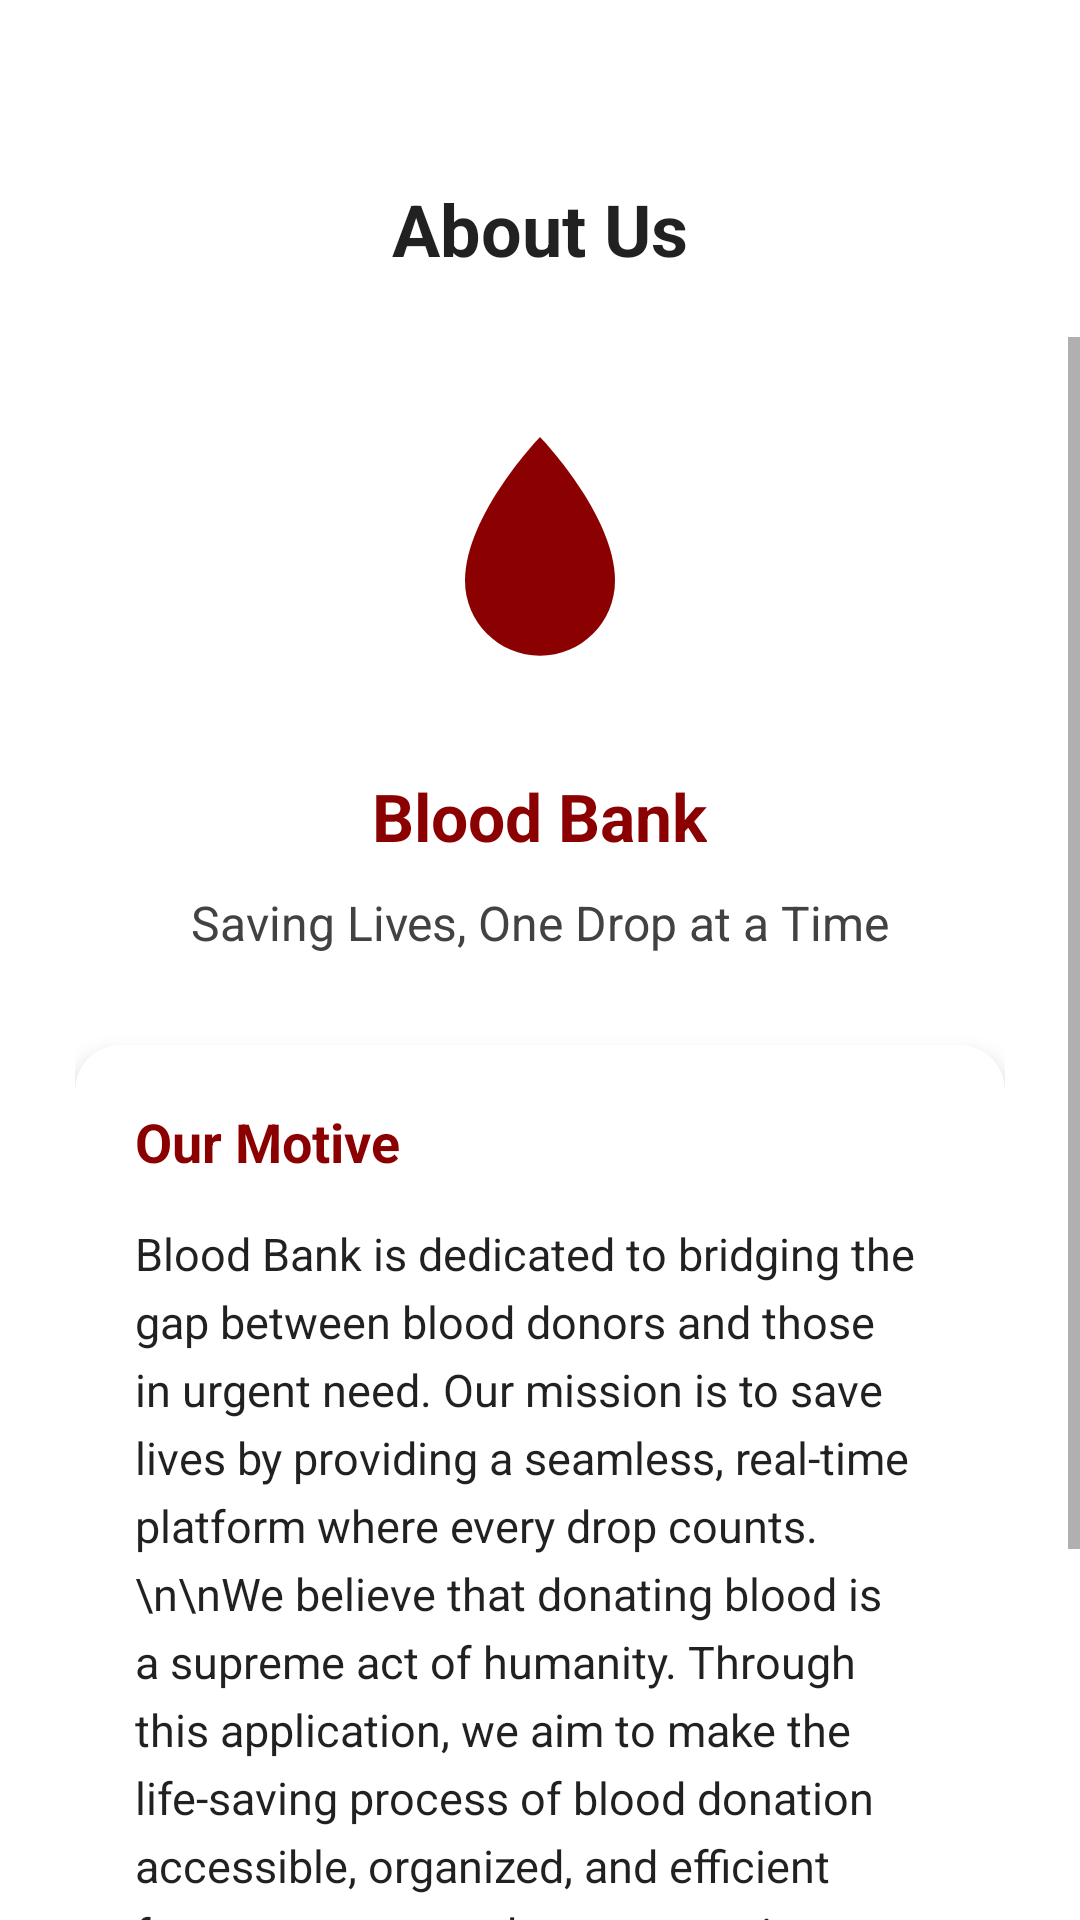

Icons on this 1080 x 1920 Android screen, each with its box as box(x1, y1, x2, y2):
blood drop: box(465, 437, 615, 656)
